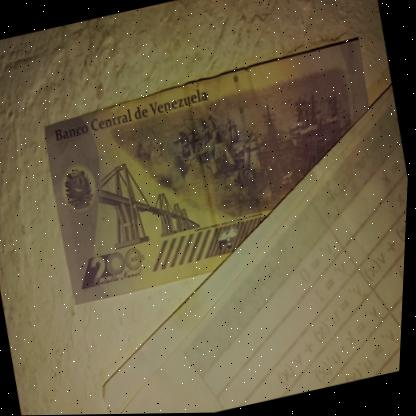two_hundred-back-vef: (32, 39, 400, 307)
